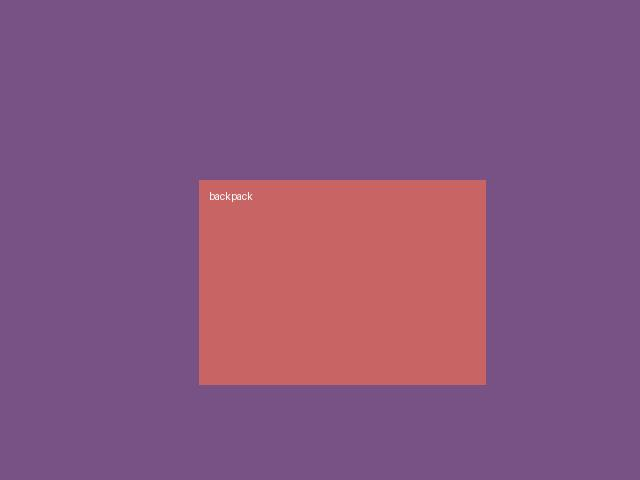backpack: (199, 180, 485, 384)
